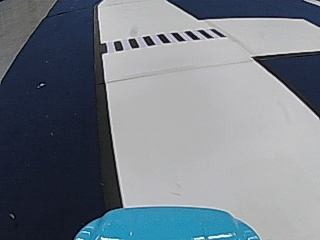CrossWalk: (103, 27, 221, 52)
